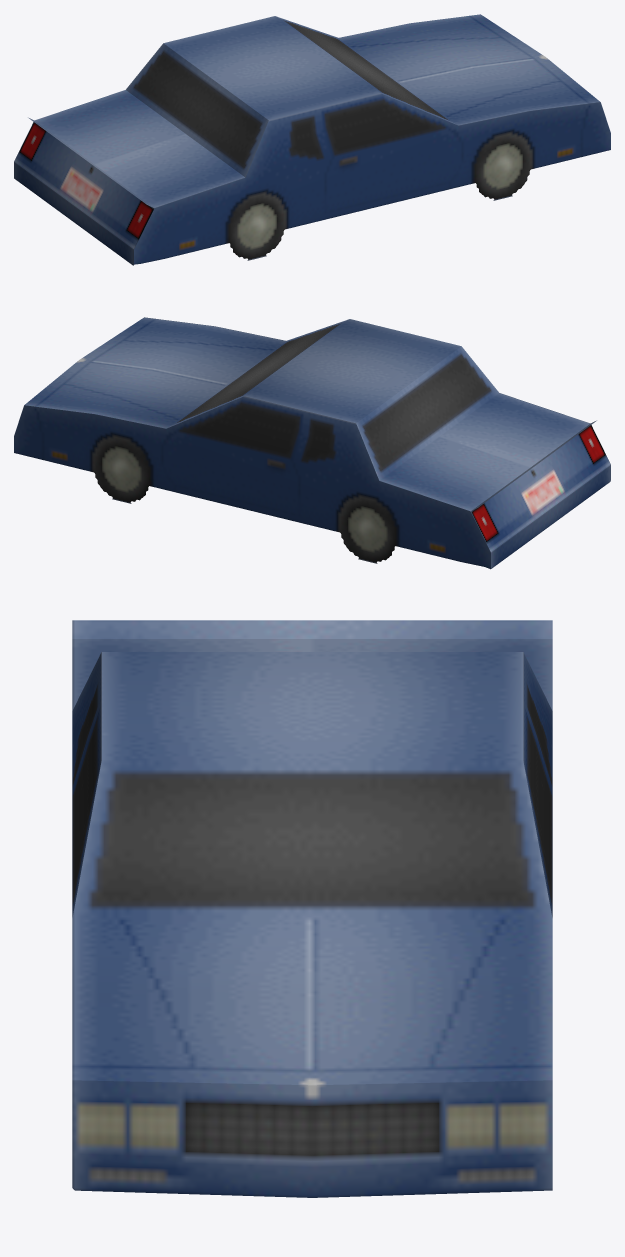
The model's file is carlo4.obj.
3 renders of one model, top to bottom at view 1: azimuth 30°, elevation 25°; view 2: azimuth 150°, elevation 25°; view 3: azimuth 270°, elevation 25°, orthographic. The views are drawn at different scales.
Visible parts, largest first — view 1: PRLD_NTM; view 2: PRLD_NTM; view 3: PRLD_NTM.
Part boxes in pixels (x1=…): PRLD_NTM: x1=14, y1=14, x2=610, y2=265; PRLD_NTM: x1=14, y1=317, x2=610, y2=569; PRLD_NTM: x1=72, y1=620, x2=552, y2=1197.
Bounding box in the file's own units: 191 × 48.3 × 82.
